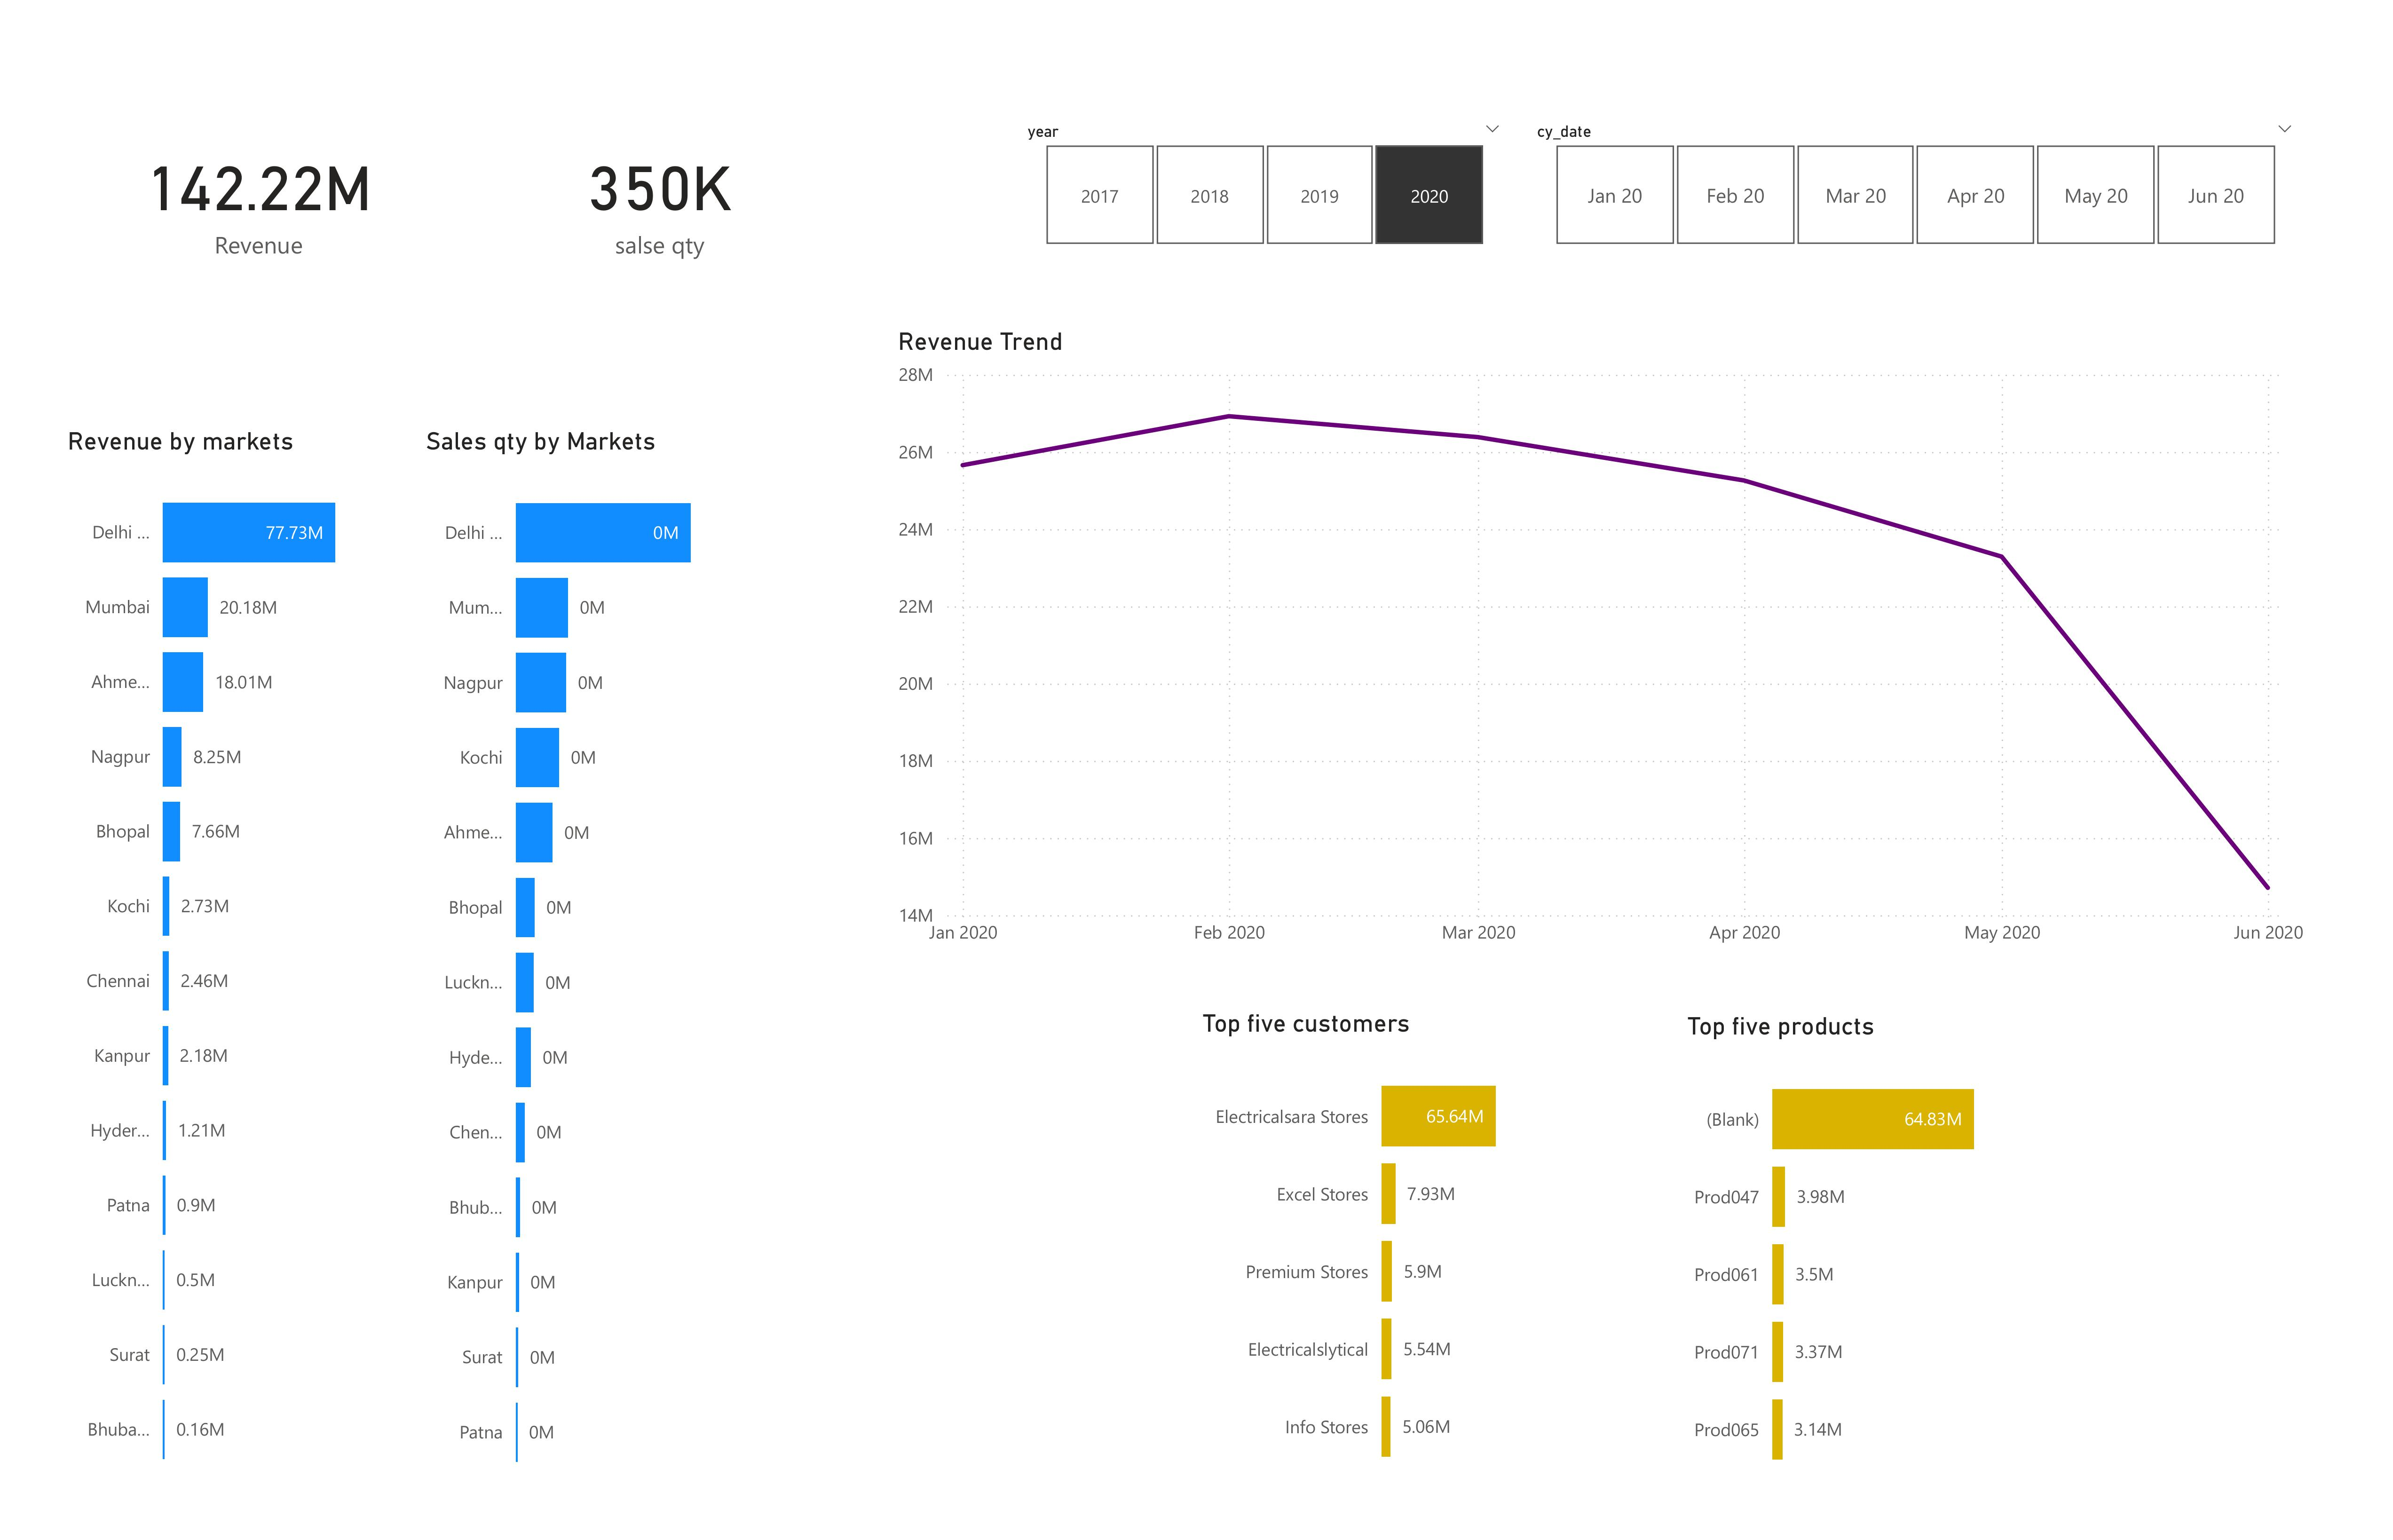

The page's visual inventory and layout, read from the dashboard file:
{"tool":"powerbi","page":{"name":"Page 1","canvas":[1580,1000],"ordinal":0},"visuals":[{"type":"card","fields":{"Values":["BaseMeasures.Revenue"]},"box":[16.8,16.8,269.8,187.7],"z":0},{"type":"card","fields":{"Values":["BaseMeasures.salse qty"]},"box":[286.6,16.8,276.5,187.7],"z":1000},{"type":"barChart","title":"Sales qty by Markets","fields":{"Category":["sales markets.markets_name"],"Y":["BaseMeasures.salse qty"]},"box":[261.4,266.5,211.2,730.7],"z":2000},{"type":"barChart","title":"Revenue by markets","fields":{"Y":["BaseMeasures.Revenue"],"Category":["sales markets.markets_name"]},"box":[16.8,266.5,229.6,729],"z":3000},{"type":"slicer","fields":{"Values":["sales date.year"]},"box":[662,54,346.9,95.5],"z":4000},{"type":"slicer","fields":{"Values":["sales date.cy_date"]},"box":[1008.9,54,539.6,95.5],"z":5000},{"type":"barChart","title":"Top five customers","fields":{"Y":["BaseMeasures.Revenue"],"Category":["sales customers.custmer_name"]},"box":[789.3,662,248,333.5],"z":6000},{"type":"barChart","title":"Top five products","fields":{"Y":["BaseMeasures.Revenue"],"Category":["sales products.product_code"]},"box":[1119.5,663.6,248,333.5],"z":7000},{"type":"lineChart","title":"Revenue Trend","fields":{"Y":["BaseMeasures.Revenue"],"Category":["sales date.cy_date.Variation.Date Hierarchy.Year","sales date.cy_date.Variation.Date Hierarchy.Quarter","sales date.cy_date.Variation.Date Hierarchy.Month","sales date.cy_date.Variation.Date Hierarchy.Day"]},"box":[581.5,198.1,967,430.7],"z":8000}]}

Visuals, with their boxes in screenshot pixels (x1, y1, x2, y2):
card - BaseMeasures.Revenue: left=60, top=60, right=457, bottom=336
card - BaseMeasures.salse qty: left=457, top=60, right=863, bottom=336
"Sales qty by Markets" barChart: left=419, top=427, right=730, bottom=1501
"Revenue by markets" barChart: left=60, top=427, right=397, bottom=1498
slicer - sales date.year: left=1008, top=115, right=1518, bottom=255
slicer - sales date.cy_date: left=1518, top=115, right=2312, bottom=255
"Top five customers" barChart: left=1195, top=1008, right=1560, bottom=1498
"Top five products" barChart: left=1681, top=1011, right=2046, bottom=1501
"Revenue Trend" lineChart: left=890, top=326, right=2312, bottom=959
